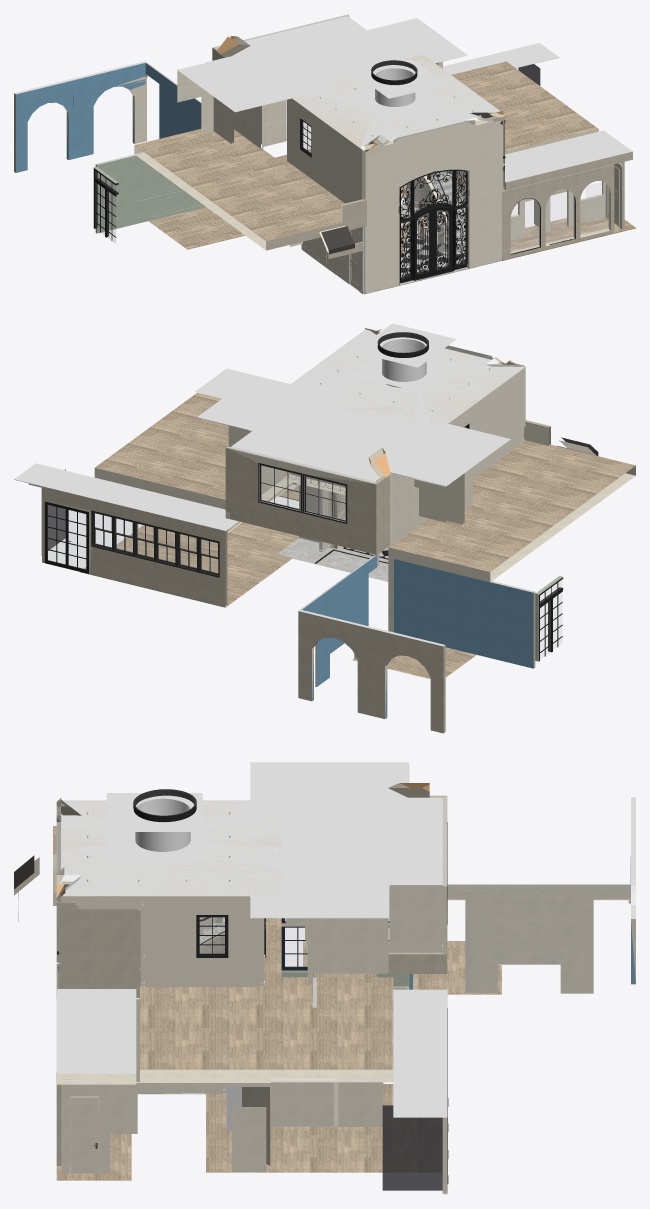
Rendered from entry-d81b9c84d237.glb.
The picture shows the model from 3 angles, top to bottom: view 1: azimuth 30°, elevation 25°; view 2: azimuth 150°, elevation 25°; view 3: azimuth 270°, elevation 25°; orthographic projection. The views are drawn at different scales.
Parts seen in each view (by area): view 1: entry-look-2575515a05775d9e, entry-look-9d91b47435c6fb33, entry-4edf3a9420c06709, entry-9d91b47435c6fb33, entry-look-969b861f9850351e, entry-9ca48b730e5de4b2, entry-look-b19b106fc304963c, entry-746250f96522f643, entry-look-dbd60ee5c3733ed6, entry-look-c9e78b9ec1bb39cd, entry-e8793759323e04f0, entry-785988ccf932ddd5 (+38 smaller); view 2: entry-look-2575515a05775d9e, entry-look-9d91b47435c6fb33, entry-look-b19b106fc304963c, entry-9d91b47435c6fb33, entry-look-969b861f9850351e, entry-look-245f595ae2832e16, entry-look-3b0077416469e01b, entry-look-bfb9fa537cd11d1d, entry-look-9a0e9ee9b2a451d7, entry-e8793759323e04f0, entry-746250f96522f643, entry-look-3e6709f91b43c3bf (+21 smaller); view 3: entry-look-2575515a05775d9e, entry-look-9d91b47435c6fb33, entry-9d91b47435c6fb33, entry-look-3e6709f91b43c3bf, entry-look-3b0077416469e01b, entry-c51ecd664a3b22a3, entry-look-dbd60ee5c3733ed6, entry-look-9a0e9ee9b2a451d7, entry-e8793759323e04f0, entry-62353aa10fc57f23, entry-look-55ff1dfd7b659ec1, entry-look-cbd4bf73d9724a66 (+26 smaller).
Part boxes in pixels (box(x1,y1,x2,y2)): entry-look-2575515a05775d9e: box(134, 61, 598, 250); entry-look-9d91b47435c6fb33: box(177, 16, 467, 112); entry-4edf3a9420c06709: box(365, 119, 502, 221); entry-9d91b47435c6fb33: box(281, 56, 500, 149); entry-look-969b861f9850351e: box(14, 61, 146, 172); entry-9ca48b730e5de4b2: box(364, 189, 502, 293); entry-look-b19b106fc304963c: box(95, 152, 202, 233); entry-746250f96522f643: box(287, 98, 360, 203); entry-look-dbd60ee5c3733ed6: box(504, 130, 632, 190); entry-look-c9e78b9ec1bb39cd: box(502, 164, 614, 259); entry-e8793759323e04f0: box(285, 55, 499, 149); entry-785988ccf932ddd5: box(365, 120, 502, 220); entry-look-2575515a05775d9e: box(94, 393, 635, 582); entry-look-9d91b47435c6fb33: box(197, 376, 510, 486); entry-look-b19b106fc304963c: box(396, 559, 535, 668); entry-9d91b47435c6fb33: box(277, 329, 524, 432); entry-look-969b861f9850351e: box(298, 609, 445, 733); entry-look-245f595ae2832e16: box(225, 446, 376, 555); entry-look-3b0077416469e01b: box(80, 522, 476, 679); entry-look-bfb9fa537cd11d1d: box(42, 486, 227, 606); entry-look-9a0e9ee9b2a451d7: box(14, 463, 238, 530); entry-e8793759323e04f0: box(277, 330, 524, 429); entry-746250f96522f643: box(448, 368, 523, 478); entry-look-3e6709f91b43c3bf: box(301, 555, 376, 686); entry-look-2575515a05775d9e: box(53, 826, 393, 1082); entry-look-9d91b47435c6fb33: box(250, 762, 442, 918); entry-9d91b47435c6fb33: box(61, 800, 281, 896); entry-look-3e6709f91b43c3bf: box(447, 884, 630, 993); entry-look-3b0077416469e01b: box(206, 941, 501, 1172); entry-c51ecd664a3b22a3: box(144, 896, 263, 986); entry-look-dbd60ee5c3733ed6: box(57, 989, 136, 1084); entry-look-9a0e9ee9b2a451d7: box(393, 989, 447, 1117); entry-e8793759323e04f0: box(58, 798, 281, 895); entry-62353aa10fc57f23: box(68, 896, 140, 997); entry-look-55ff1dfd7b659ec1: box(447, 884, 630, 993); entry-look-cbd4bf73d9724a66: box(382, 1105, 442, 1190).
Bounding box in the file's own units: 21.07 × 7.94 × 18.
Materials: 67 (13 with a texture image).
